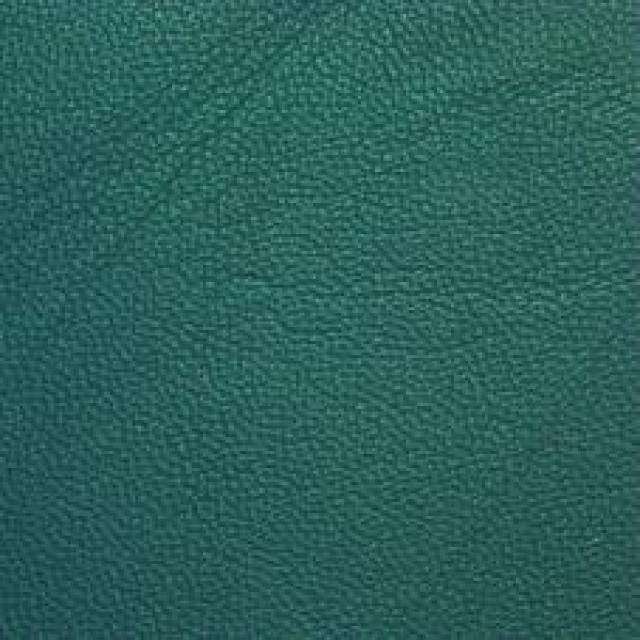Growth Marks: (96, 39, 272, 304)
